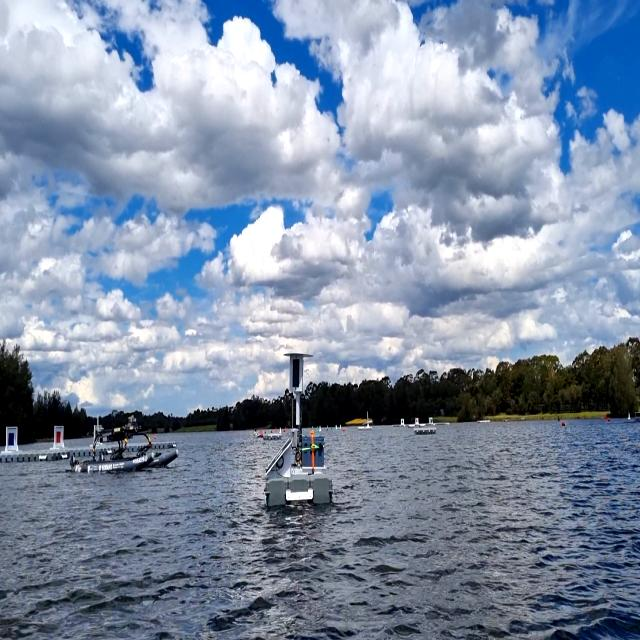led: (291, 356, 301, 389)
